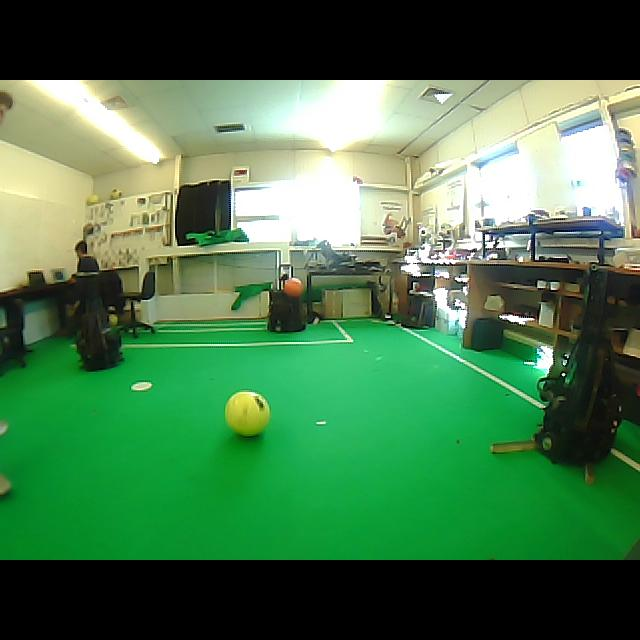ball: (225, 391, 269, 436), (284, 278, 304, 298), (86, 194, 100, 204), (110, 189, 122, 199), (109, 314, 118, 326)
robot: (535, 269, 621, 464), (76, 312, 124, 371), (268, 264, 305, 332)
